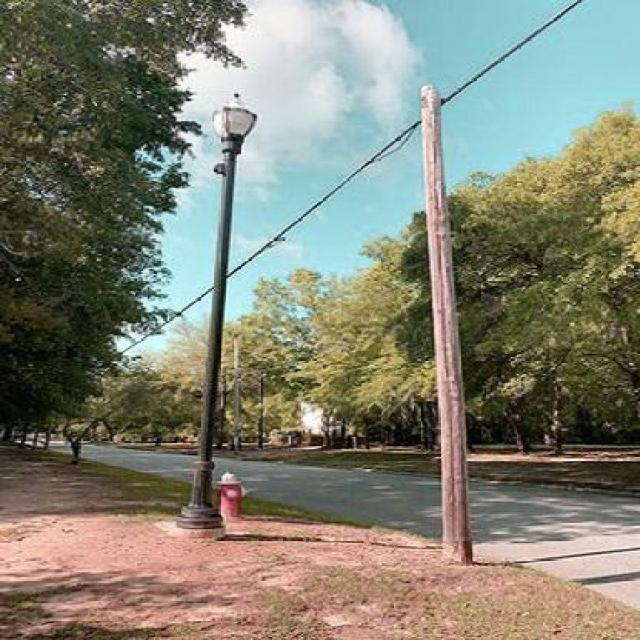non-critical vegetation: (371, 73, 497, 556)
